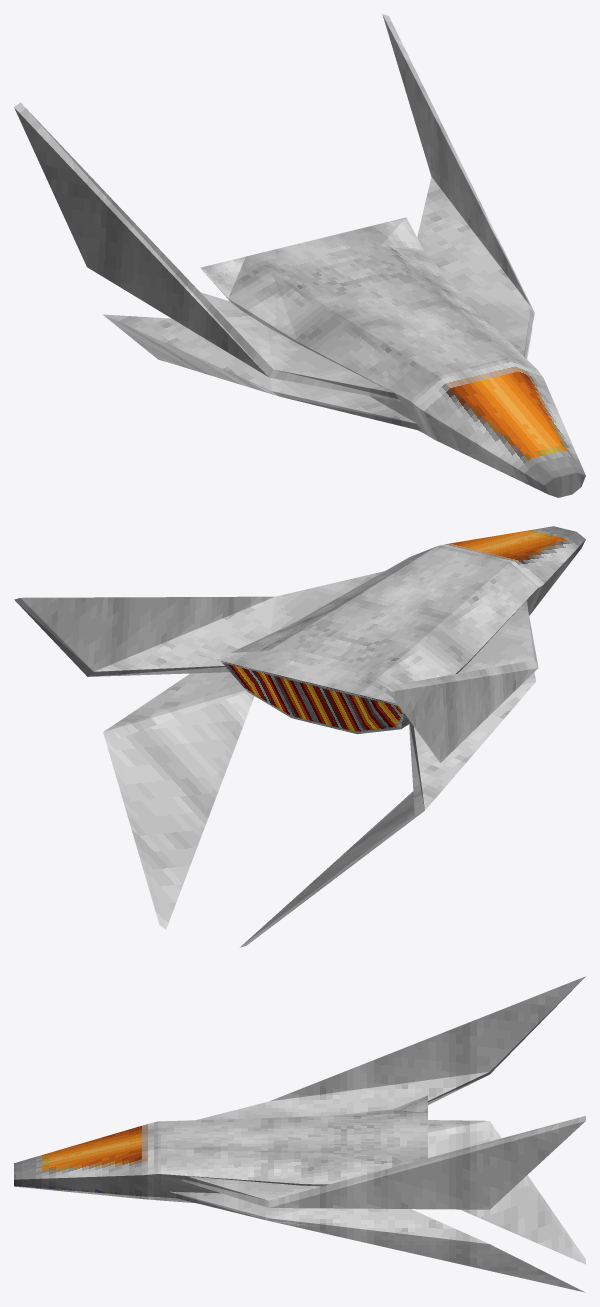
File: icebrd.obj
The picture shows the model from 3 angles, top to bottom: view 1: azimuth 30°, elevation 25°; view 2: azimuth 150°, elevation 25°; view 3: azimuth 270°, elevation 25°; orthographic projection. The views are drawn at different scales.
Bounding box in the file's own units: 2.84 × 2.13 × 4.75.
Materials: 5 (5 with a texture image).
